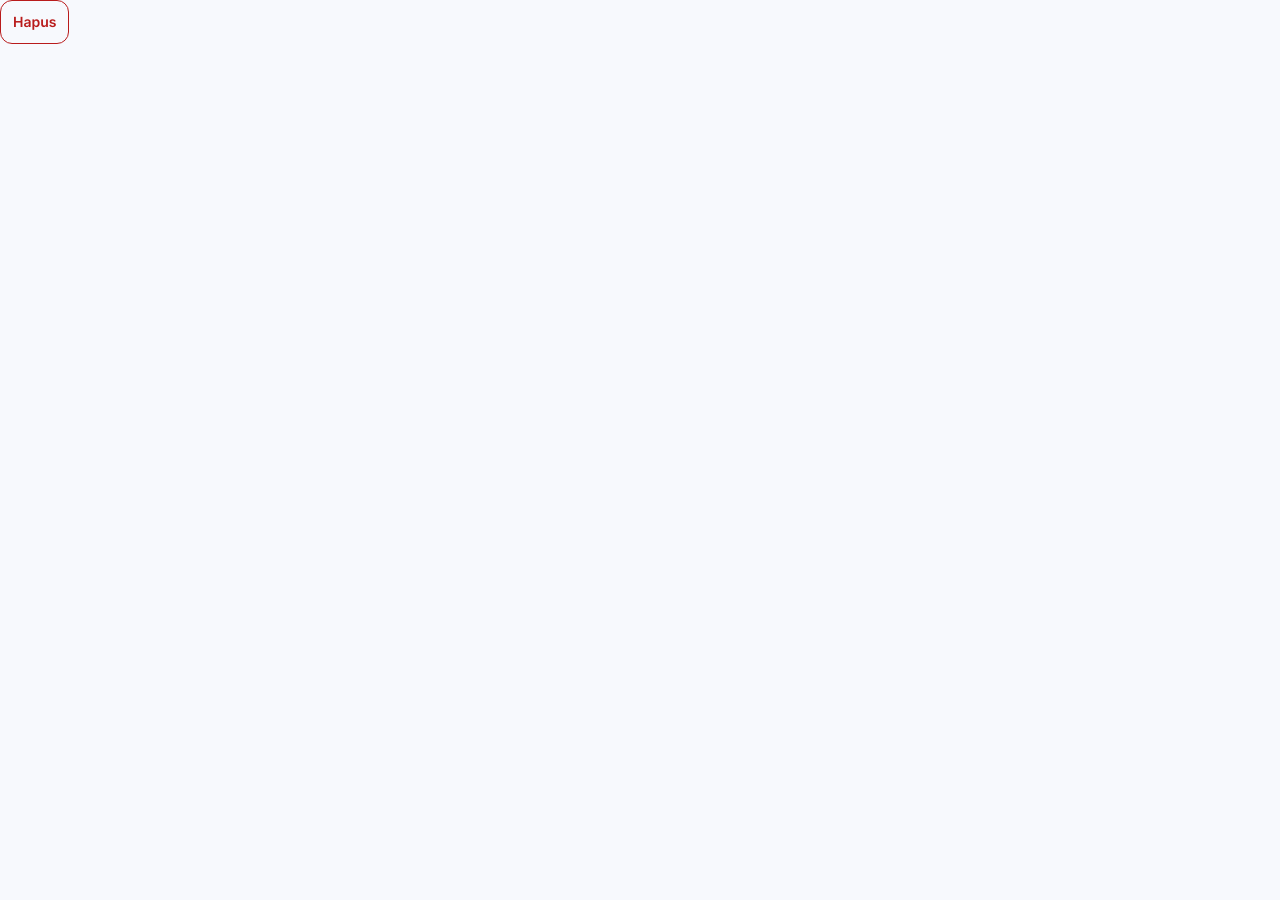
Test: ConfirmDelete › asks first with the exact confirmation text and deletes only after the second Hapus
Later steps or results of the test are not shown.
Click the button with aria-label "Hapus Penyusunan SOP": {"x": 35, "y": 22} [0,0,70,44]
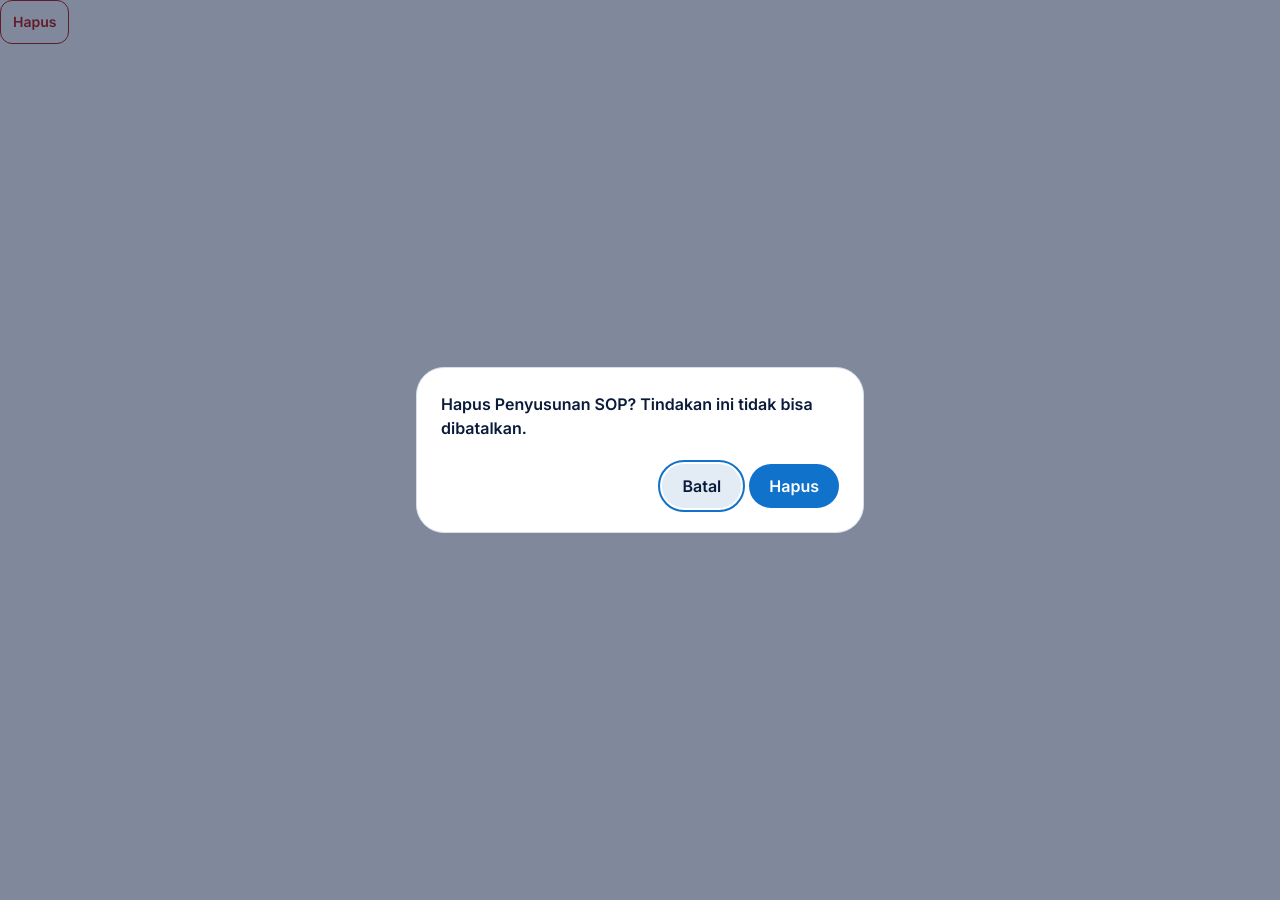
Expected: the dialog shows "Hapus Penyusunan SOP? Tindakan ini tidak bisa dibatalkan.", [441,394,813,438]
